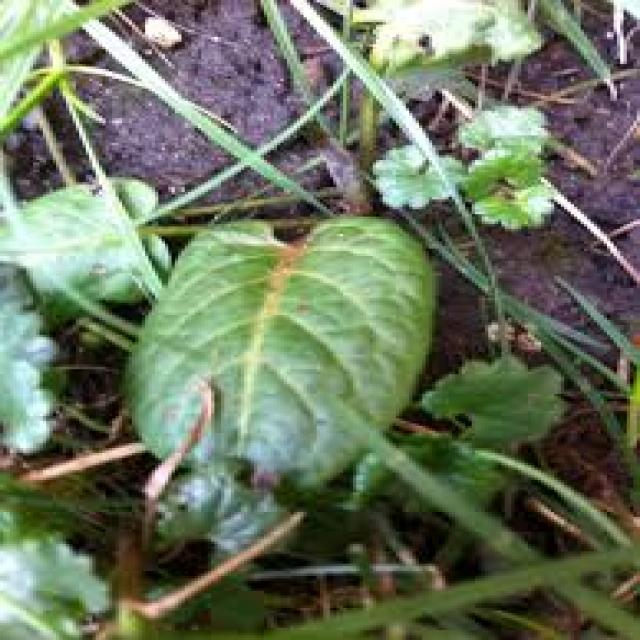organic waste: (145, 167, 455, 507)
